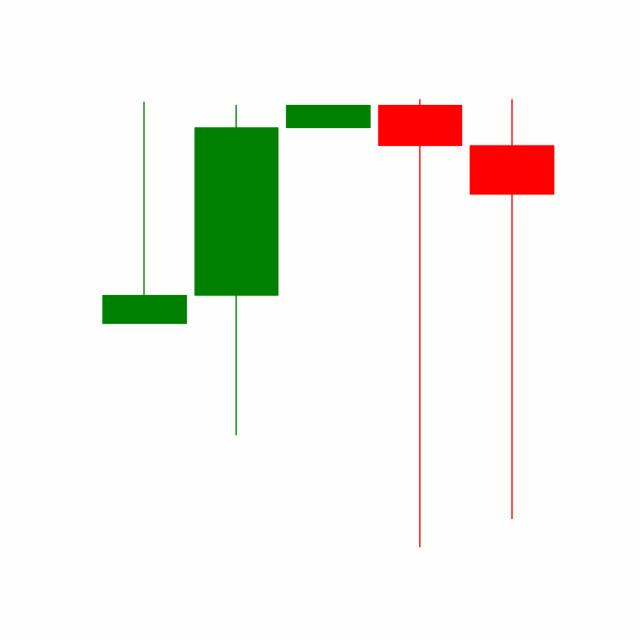Hammer: (373, 94, 467, 552)
